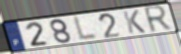2: (25, 21, 50, 48), (98, 12, 122, 39)
8: (49, 18, 72, 44)
K: (121, 9, 147, 34)
L: (72, 15, 99, 42)
R: (142, 4, 174, 34)
